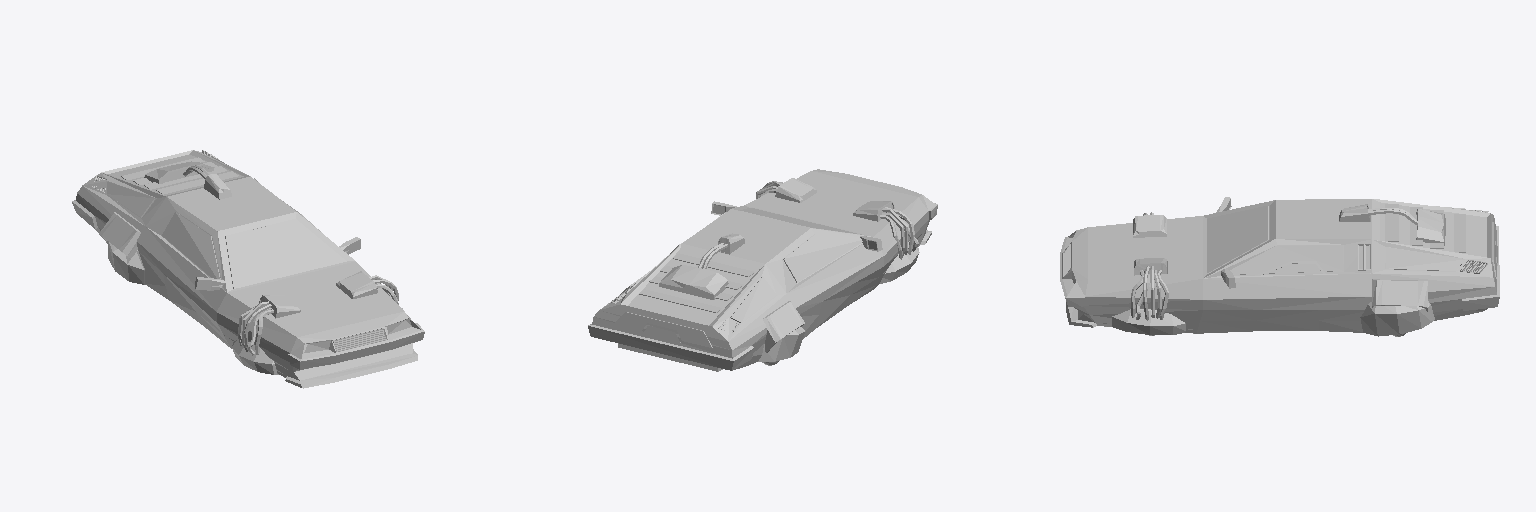
File: aircar_delorean.obj
3 views of the same model, side by side, from view 1: azimuth 30°, elevation 25°; view 2: azimuth 150°, elevation 25°; view 3: azimuth 270°, elevation 25° (orthographic).
Parts seen in each view (by area): view 1: silver, glass, black; view 2: silver, glass, black, redlight; view 3: silver, glass, black.
Boxes of the visible parts, <box> form: silver: <box>72,150,424,388</box>; glass: <box>107,182,345,288</box>; black: <box>92,150,402,355</box>; silver: <box>588,169,937,371</box>; glass: <box>625,208,862,322</box>; black: <box>609,181,918,332</box>; redlight: <box>614,312,712,347</box>; silver: <box>1060,197,1499,336</box>; glass: <box>1207,206,1465,274</box>; black: <box>1064,204,1488,320</box>.
Bounding box in the file's own units: 189 × 104 × 413.